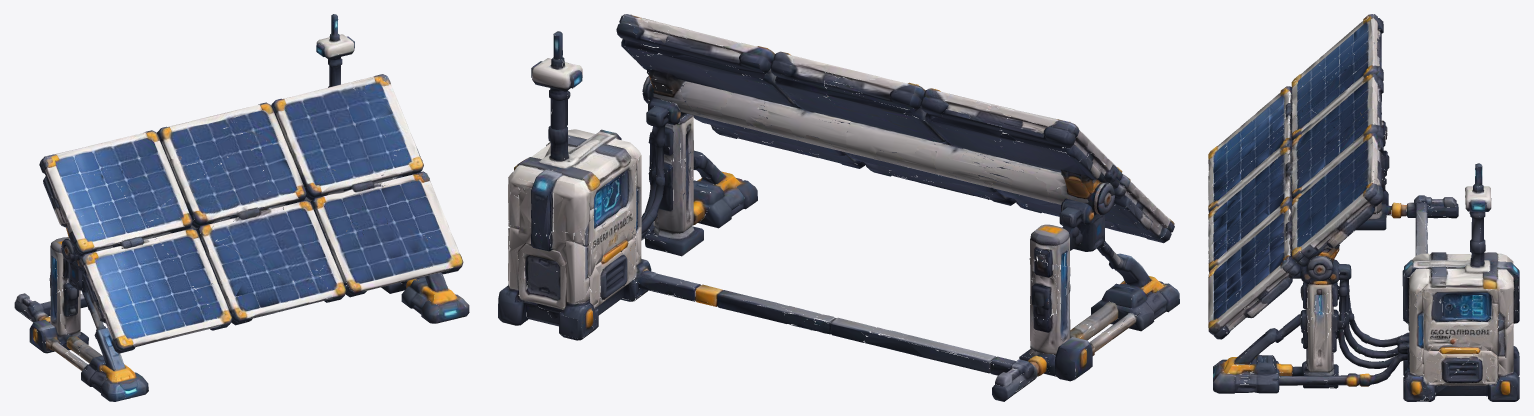
The model's file is SolarArrayVSAT.glb.
3 renders of one model, left to right at view 1: azimuth 30°, elevation 25°; view 2: azimuth 150°, elevation 25°; view 3: azimuth 270°, elevation 25°, orthographic. The views are drawn at different scales.
Visible parts, largest first — view 1: tripo_node_83dae273-9d3c-4c27-a831-f7255d975798; view 2: tripo_node_83dae273-9d3c-4c27-a831-f7255d975798; view 3: tripo_node_83dae273-9d3c-4c27-a831-f7255d975798.
Part boxes in pixels (x1,y1,x2,y2): tripo_node_83dae273-9d3c-4c27-a831-f7255d975798: (14, 14, 469, 401); tripo_node_83dae273-9d3c-4c27-a831-f7255d975798: (498, 14, 1179, 401); tripo_node_83dae273-9d3c-4c27-a831-f7255d975798: (1208, 14, 1519, 401).
Bounding box in the file's own units: 0.9774 × 0.5234 × 0.6586.
1 material, 1 textured.
